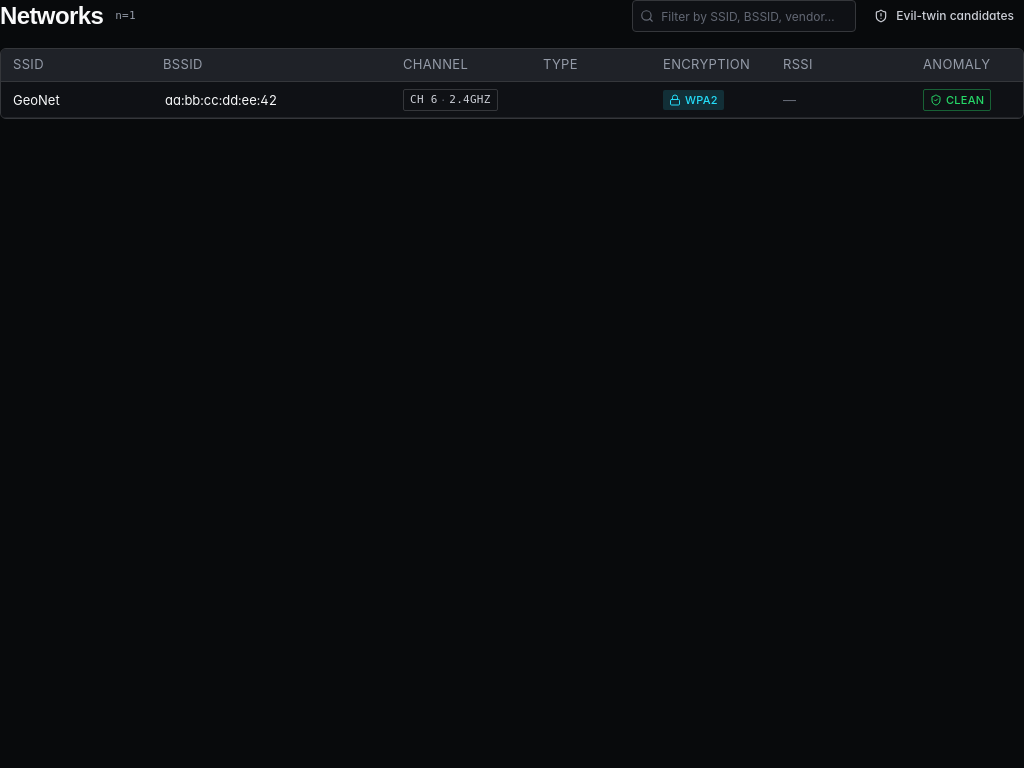
NetworksView › renders the location row when an AP has coordinates
The width and height of the screenshot is (1024, 768).
Click the text "GeoNet" at (36, 100), box left=13, top=90, right=60, bottom=110
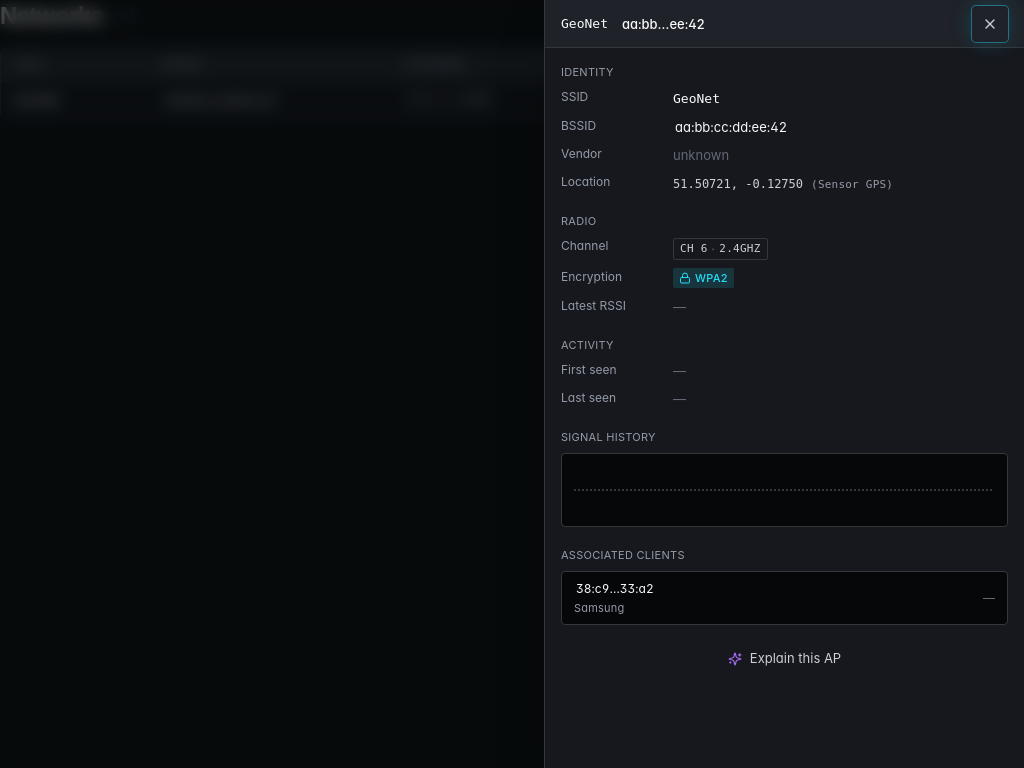
Check: the dialog is shown
Check: the text "51.50721, -0.12750(Sensor GPS)" is shown, box left=673, top=177, right=893, bottom=191
Check: the text "(Sensor GPS)" is shown, box left=811, top=178, right=893, bottom=191
